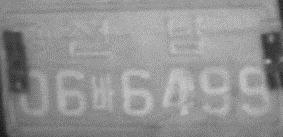0: (17, 68, 51, 117)
4: (161, 68, 195, 117)
6: (120, 68, 155, 118), (54, 68, 87, 118)
9: (197, 65, 234, 117), (237, 65, 273, 117)
바: (88, 73, 117, 114)
영: (12, 16, 53, 59)
전남_D: (65, 14, 209, 59)
